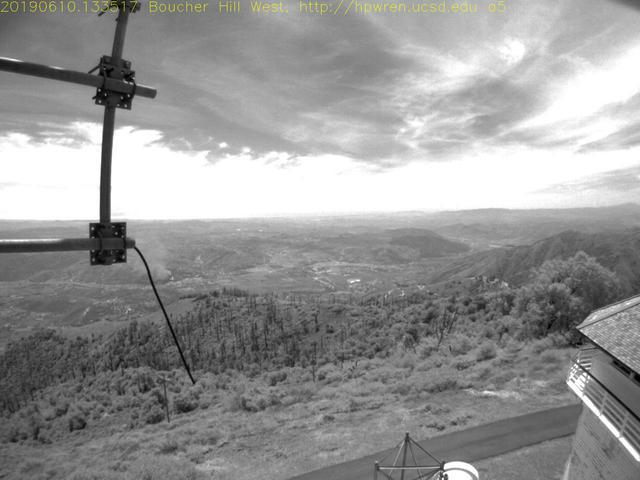smoke: (131, 224, 172, 282)
